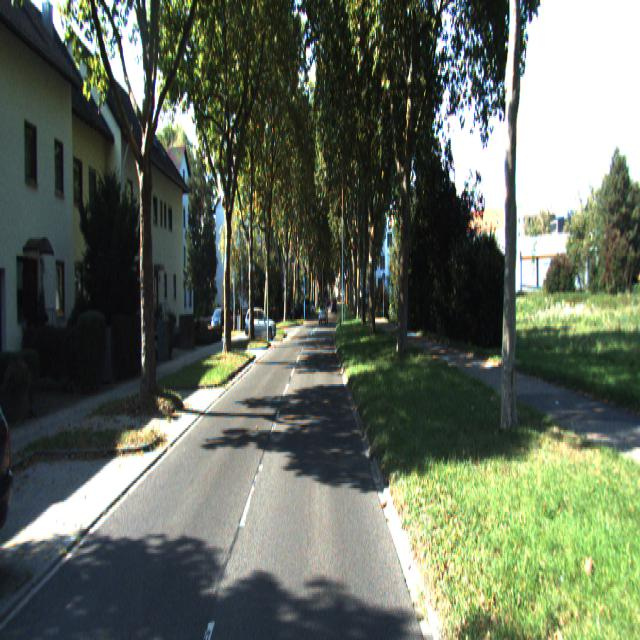Car: (0, 339, 30, 588), (244, 312, 278, 345)
